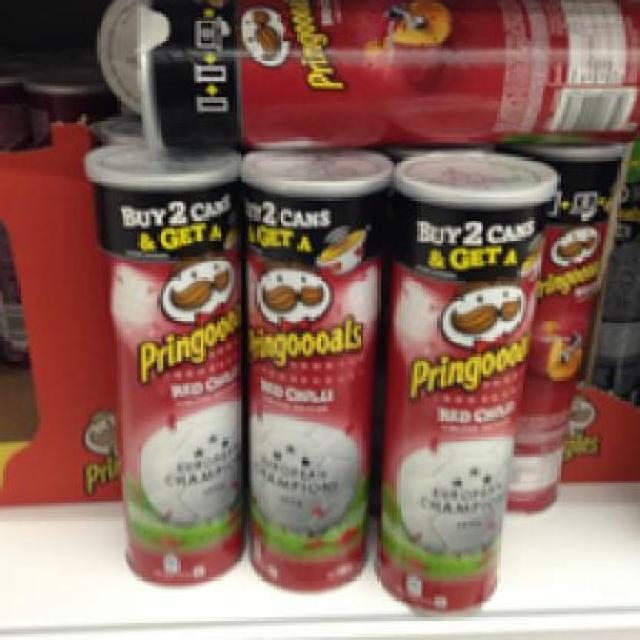Chips: (377, 140, 552, 614), (134, 0, 637, 149), (80, 145, 243, 586), (233, 143, 389, 592)
